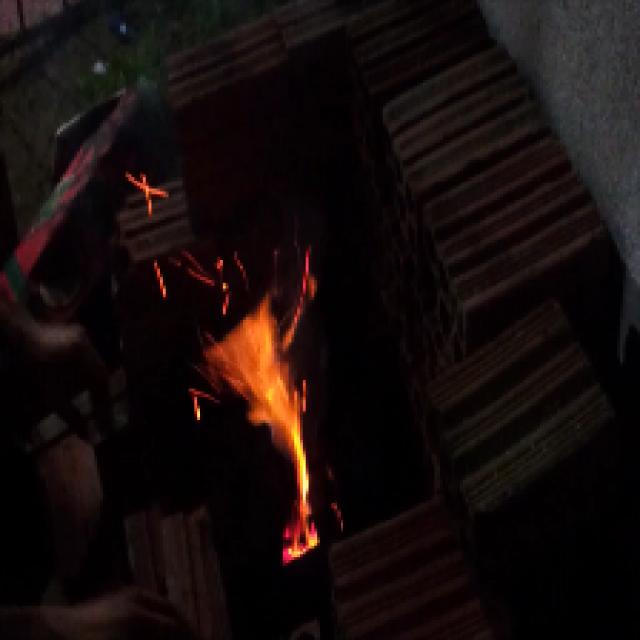fire: (206, 282, 324, 575)
